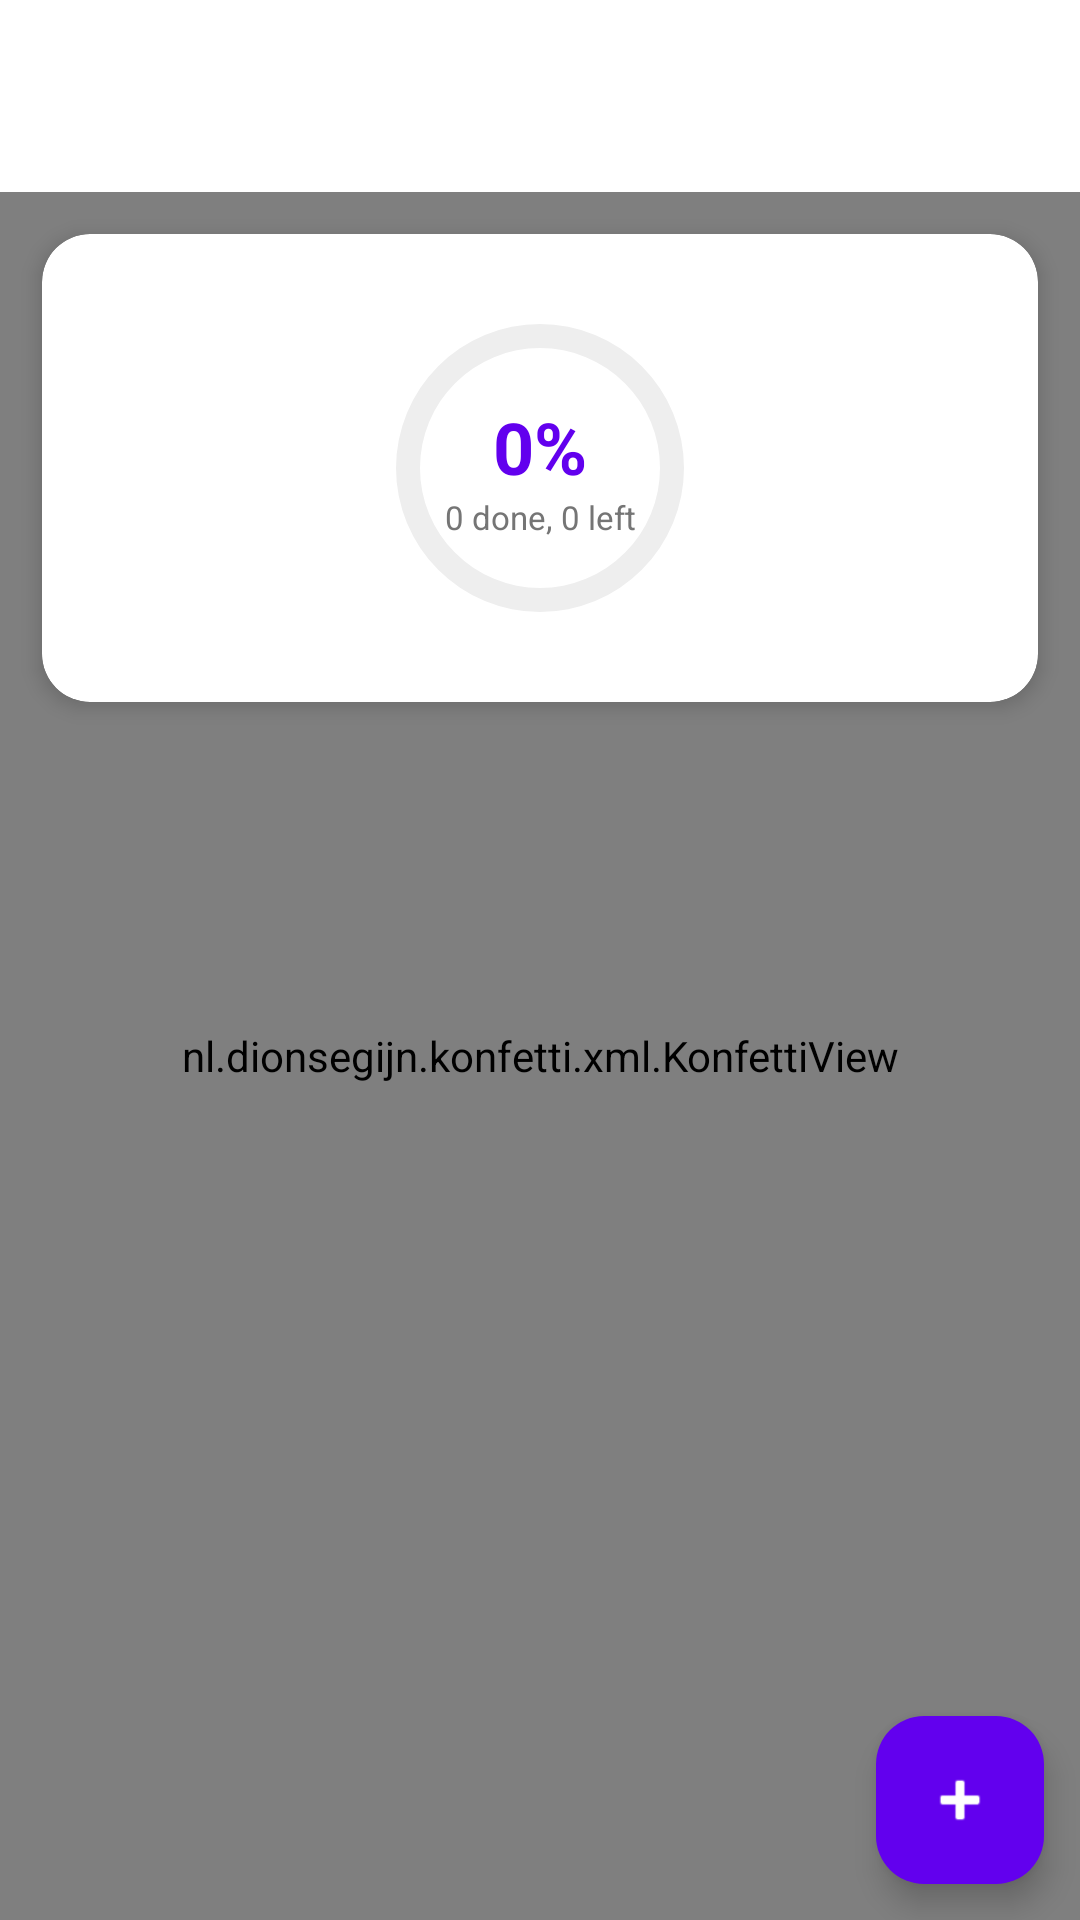

Icon click points for this 1080px x 1920px phone screenshot, format point (x, y):
add: point (960, 1800)
